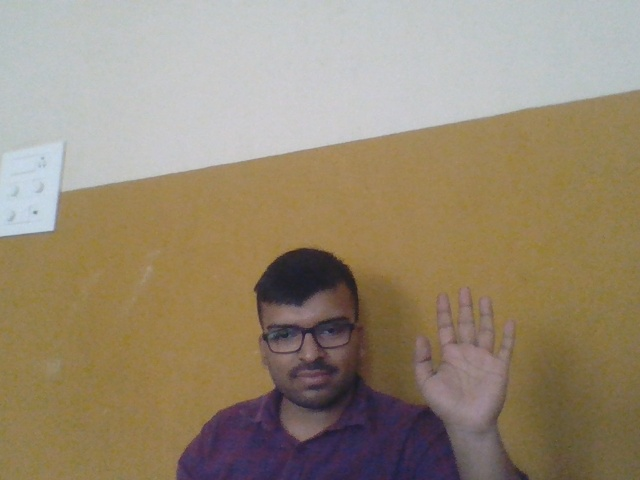Hello: (403, 274, 544, 455)
